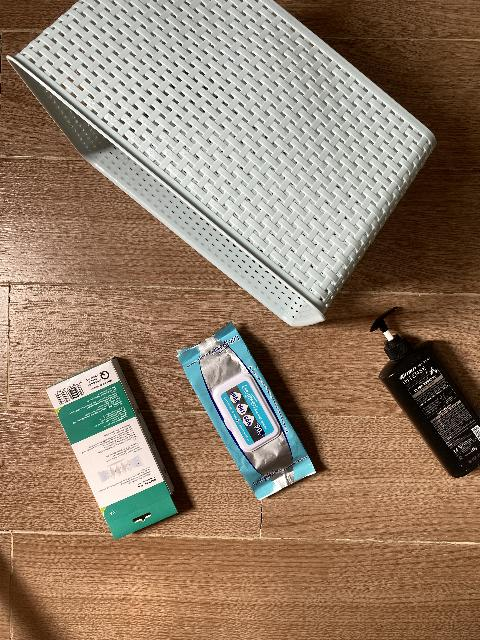4D_medical_face-mask: (46, 358, 178, 541)
Let-green_alcohol_wipes: (177, 323, 317, 501)
X-men: (369, 306, 480, 479)
cart: (9, 0, 436, 328)
